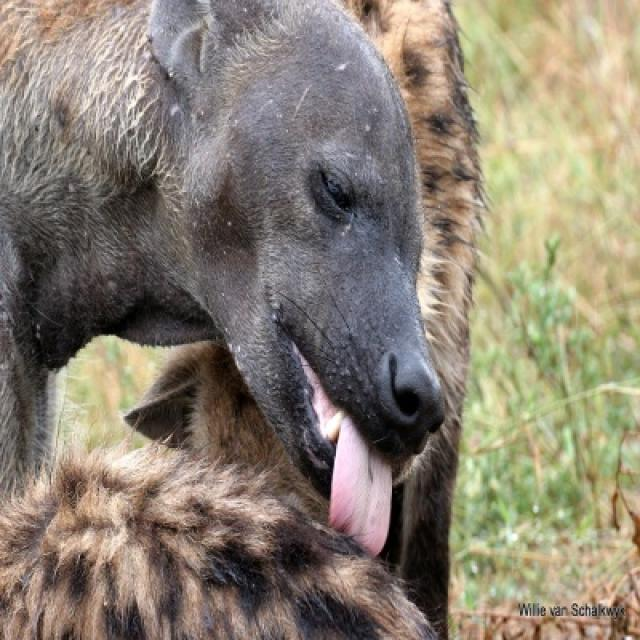hyena: (0, 0, 488, 638)
